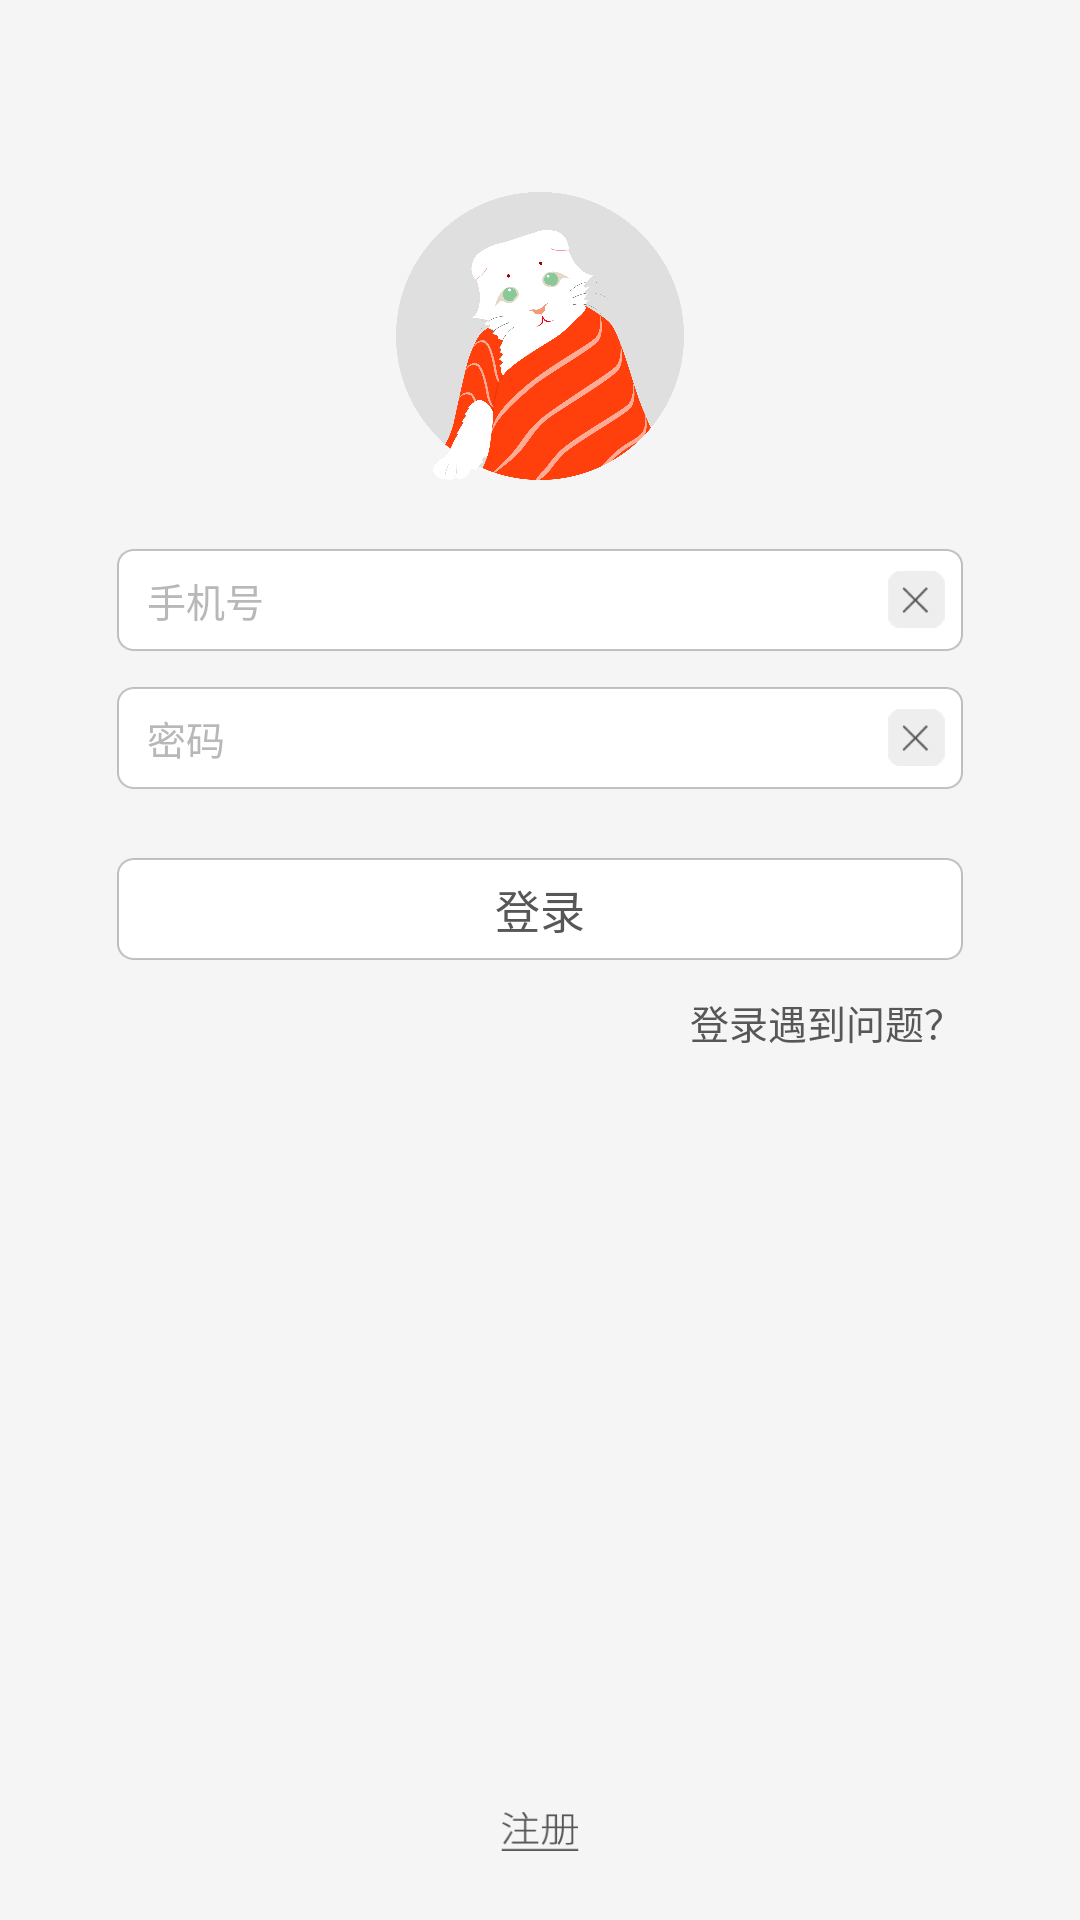

Icons on this 1080px×1920px Android screen, each with the point to tap as [x,y]:
delete all: [916,599], [916,737]
